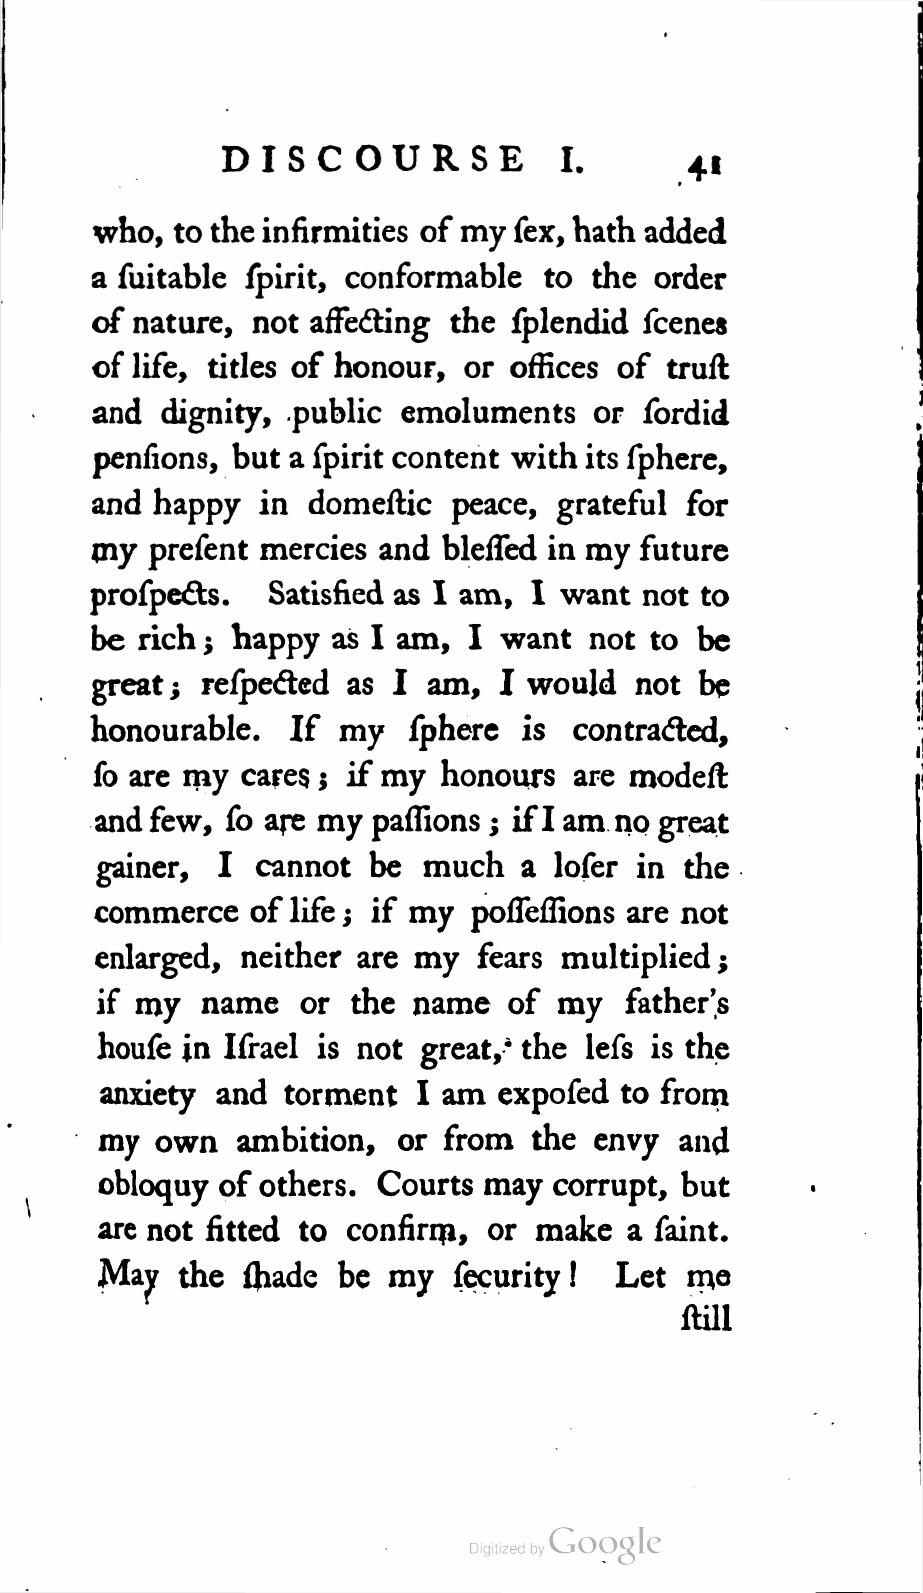catchword: (680, 1297, 738, 1338)
header: (218, 136, 592, 182)
page_num: (686, 148, 726, 188)
top_p: (88, 210, 736, 1294)
